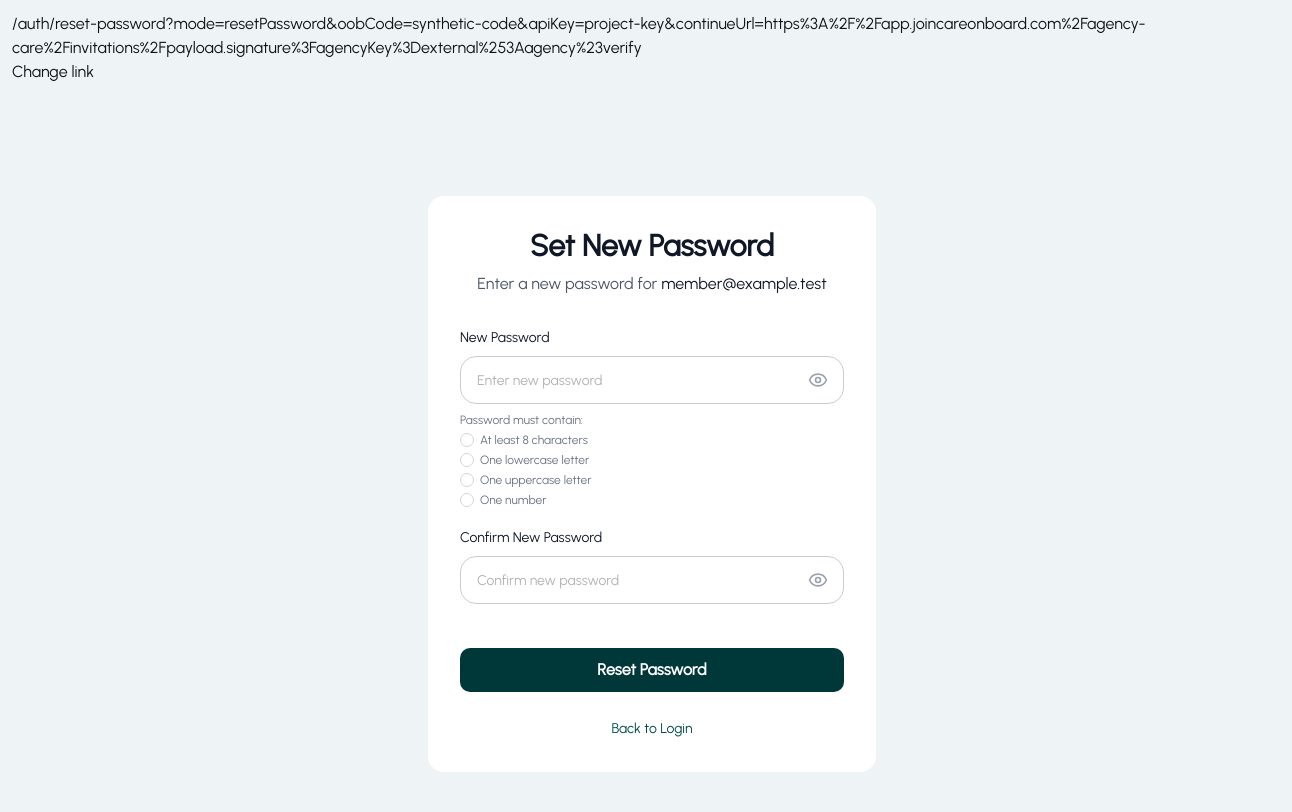
it: confirms only a submitted password and offers an explicit safe continuation after success
In the password field labelled "New Password": {"x": 652, "y": 380} [460,356,844,404], type "Secure123"
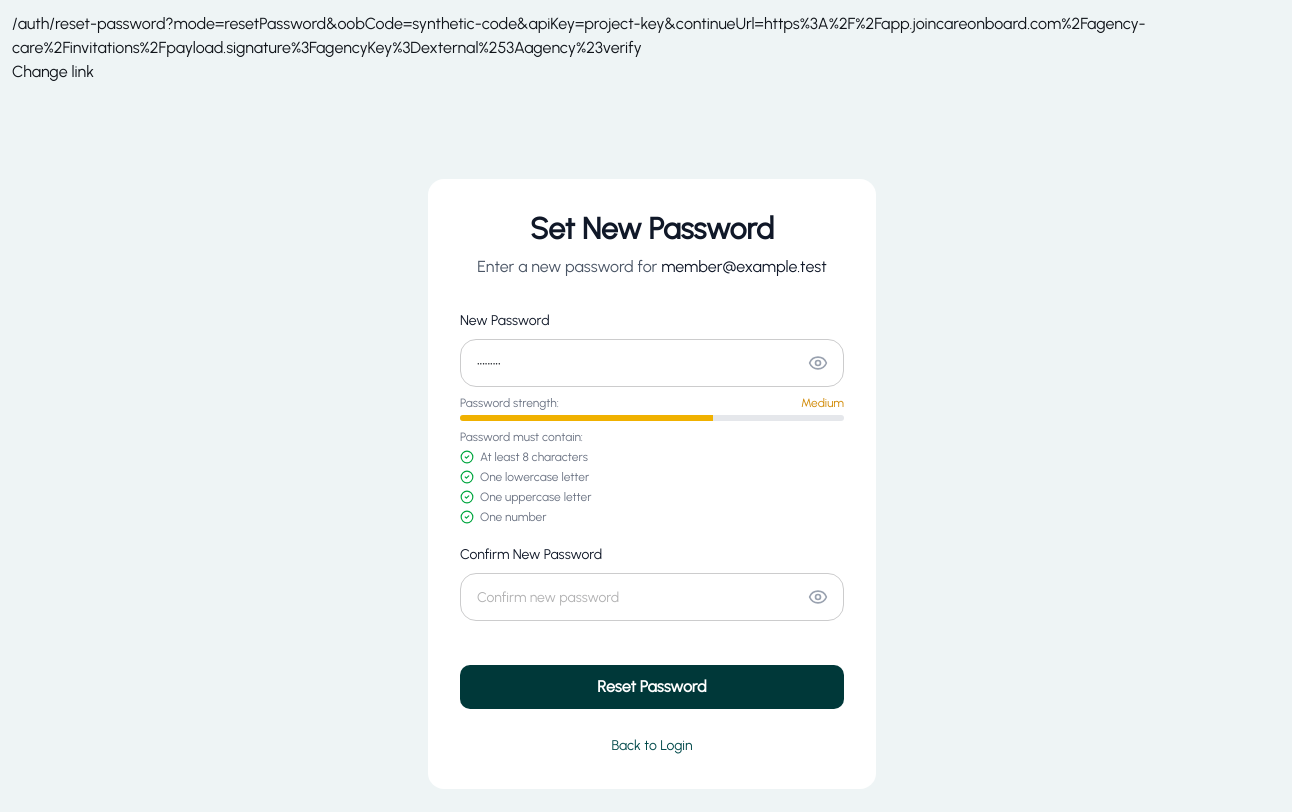
In the password field labelled "Confirm New Password": {"x": 652, "y": 597} [460,573,844,621], type "Secure123"
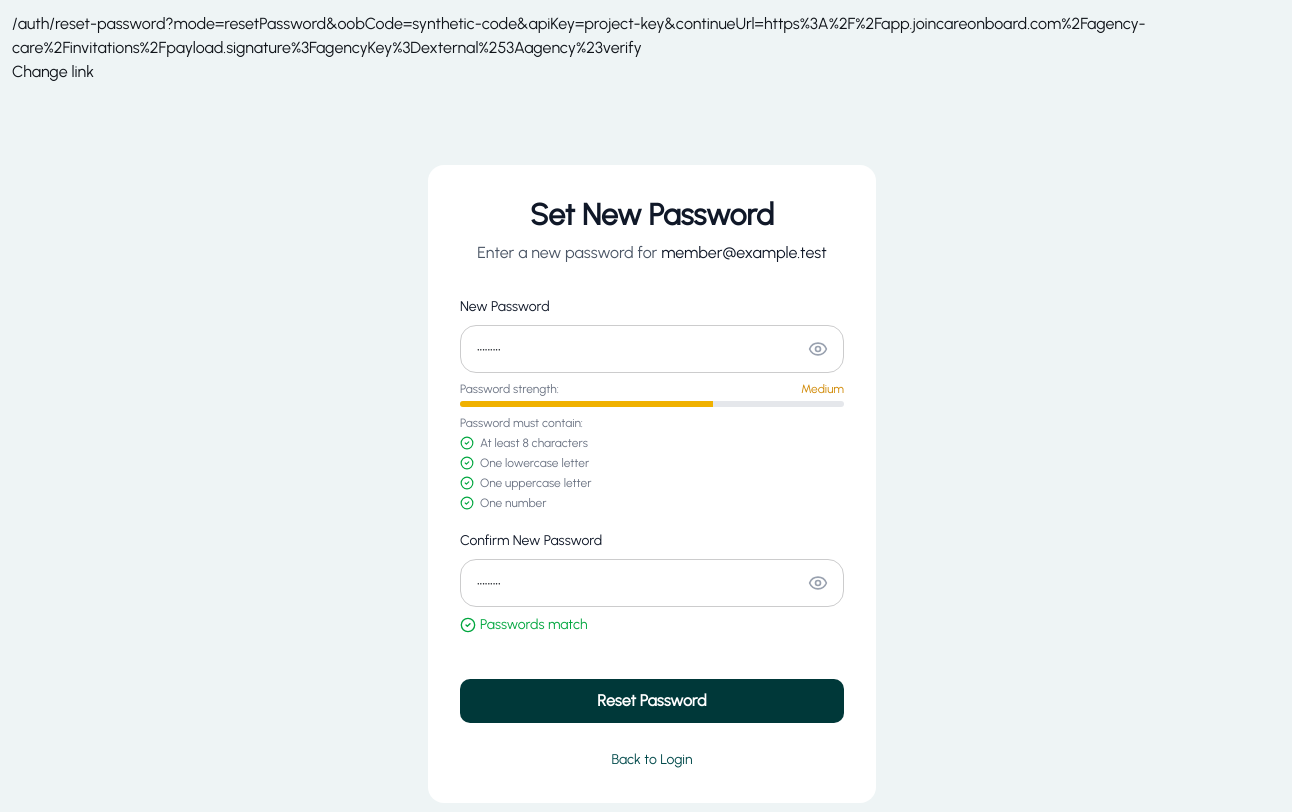
Submit the form labelled "New Password", box [460,297,844,723]
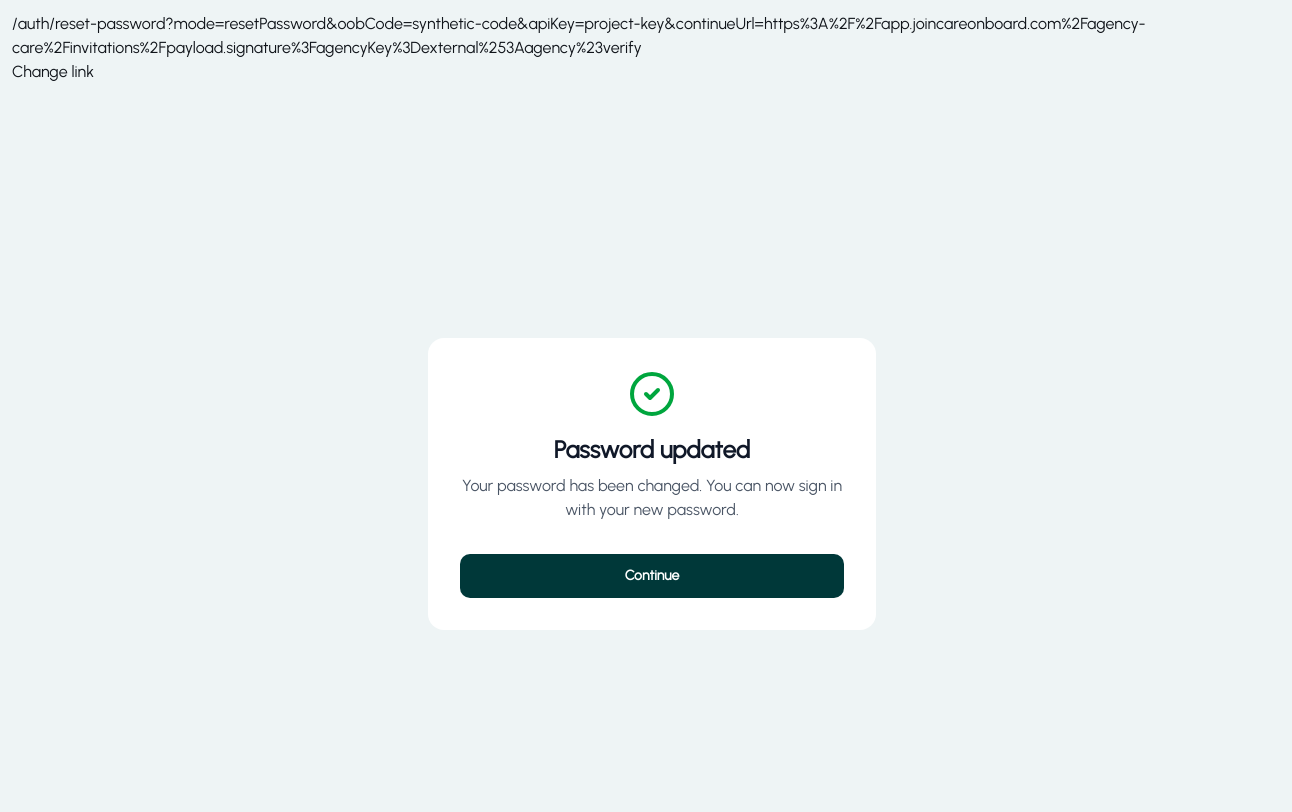
Expected: the text with test id "location" shows "/auth/reset-password?", [12,14,166,33]
Now the heading "Password updated" is shown, box [554,435,750,464]
